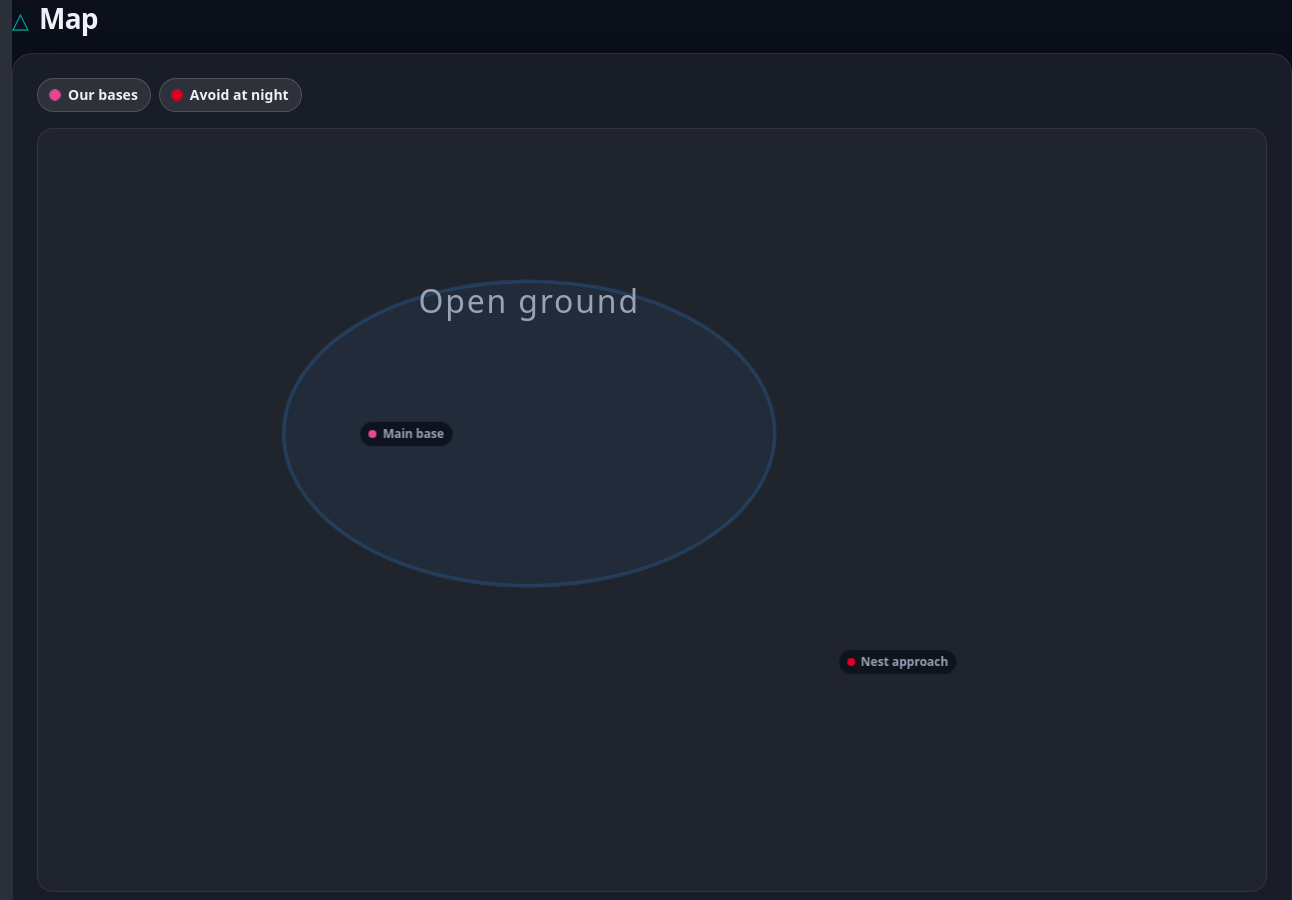
it: CompanionMap › falls back to a placeholder for a pin with no note
Click the button with aria-label "Nest approach — Avoid at night" at (898, 662), box x1=838 y1=649 x2=957 y2=675
(page scrolled)
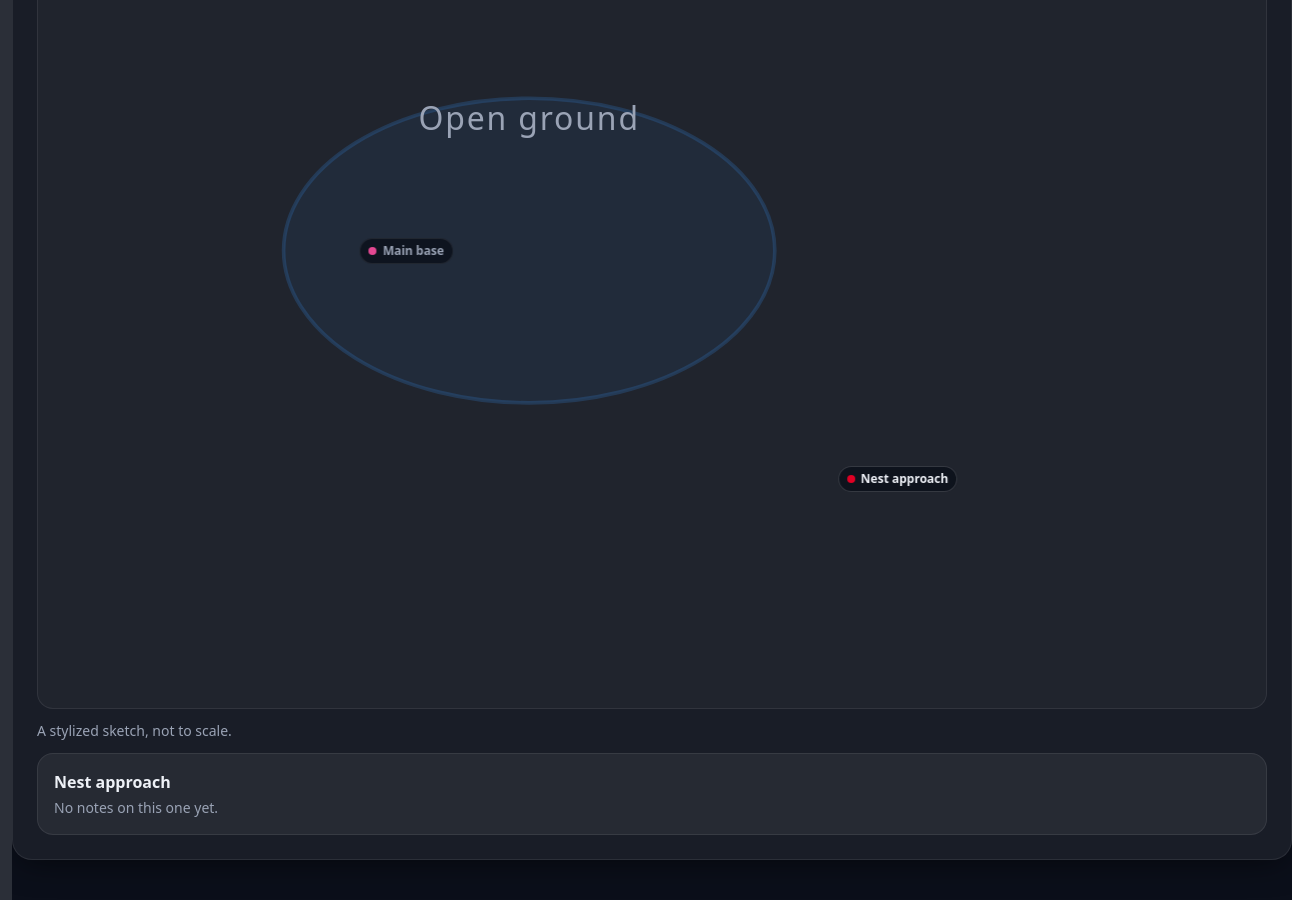
Now the text "No notes on this one yet." is shown, box x1=54 y1=798 x2=218 y2=817
